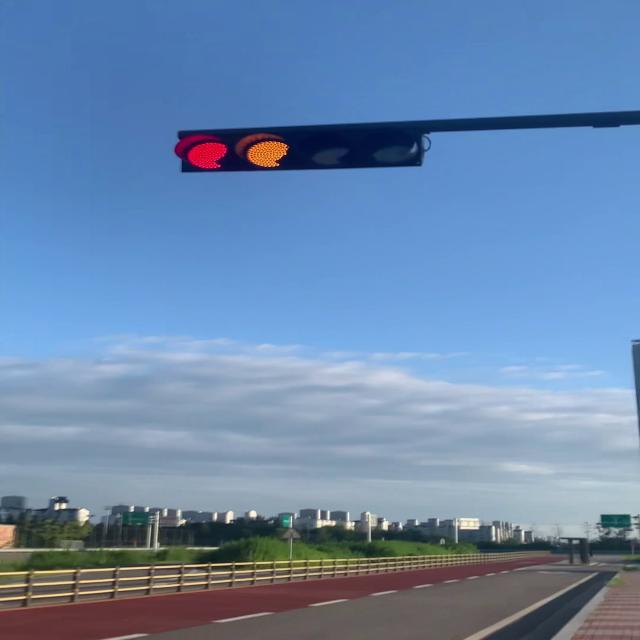yellow_light: (173, 126, 424, 174)
